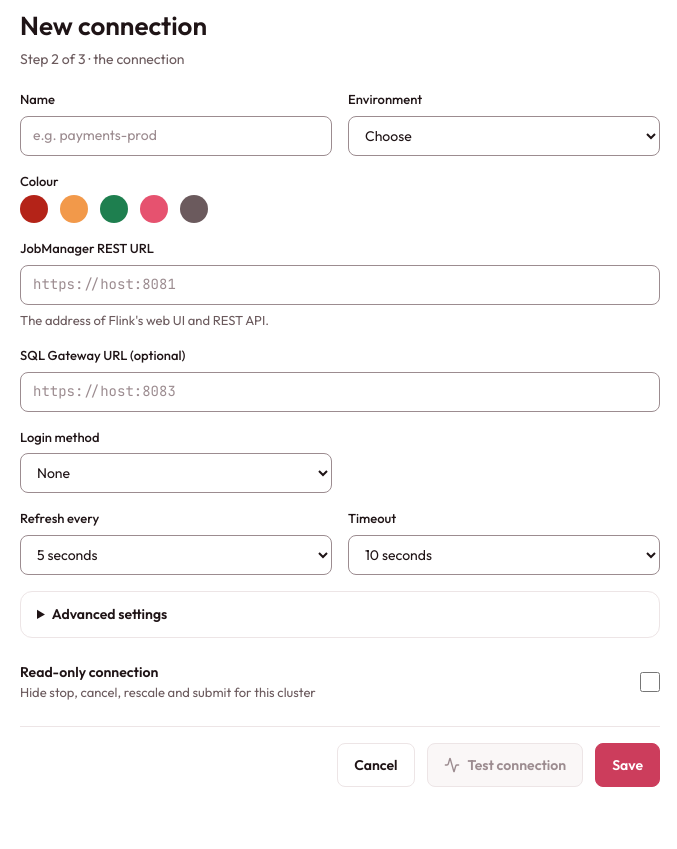
Test: CONN-02 the connection form (boards D02, D02c) › Save with problems shows every field and CONN-FORM-INVALID with the count; a taken name is refused
This screenshot has width=677, height=849.
In the field labelled "Name": (176, 136) [20,116,332,156], type "Payments-Prod"
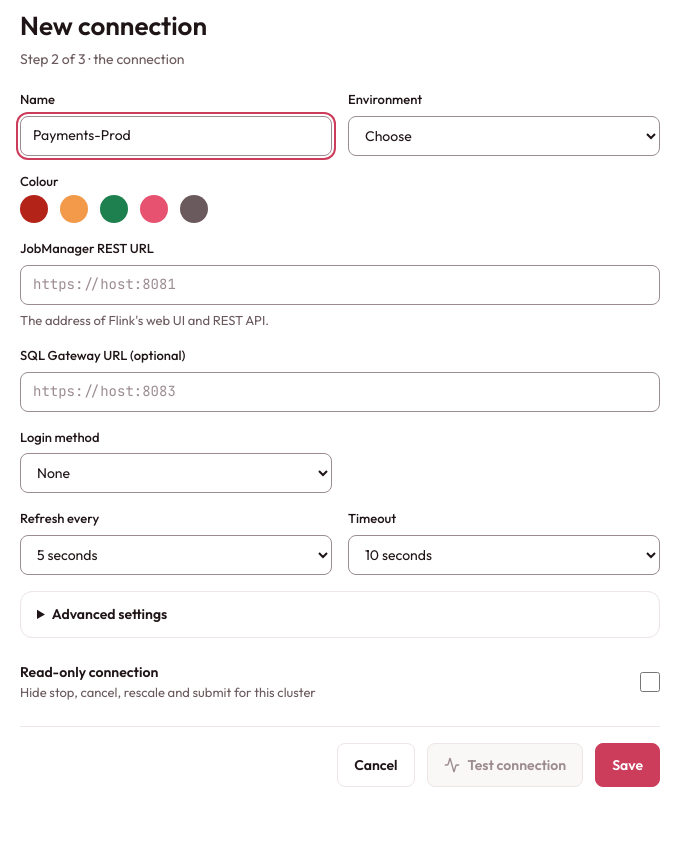
Click the button "Save": (628, 765) [595,743,660,787]
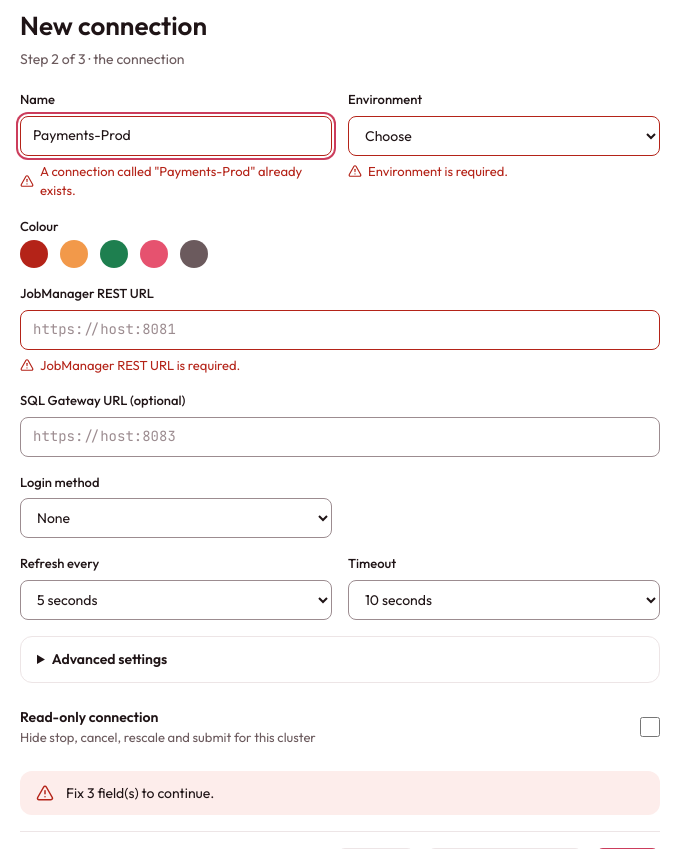
Expected: the text "A connection called \"Payments-Prod\" already exists." is shown, [20,162,332,200]
Expected: the text "Environment is required." is shown, [348,162,508,178]
Expected: the text "Fix 3 field(s) to continue." is shown, [65,783,214,802]
